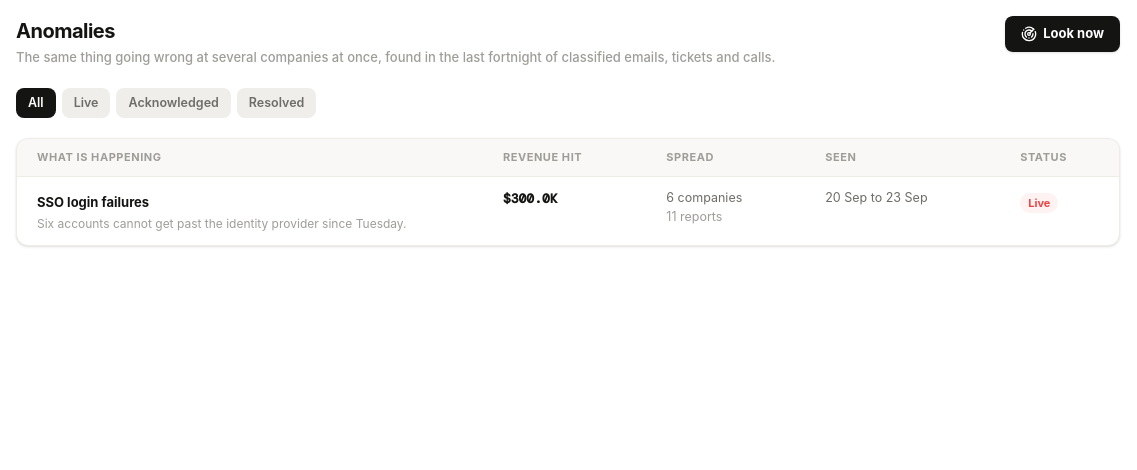
Scenario: AnomaliesPage › opens one and shows the companies hit and the reports
The image size is (1137, 470).
Click the button with aria-label "Open SSO login failures". click: x=93, y=203
box: 37,193 -> 149,212
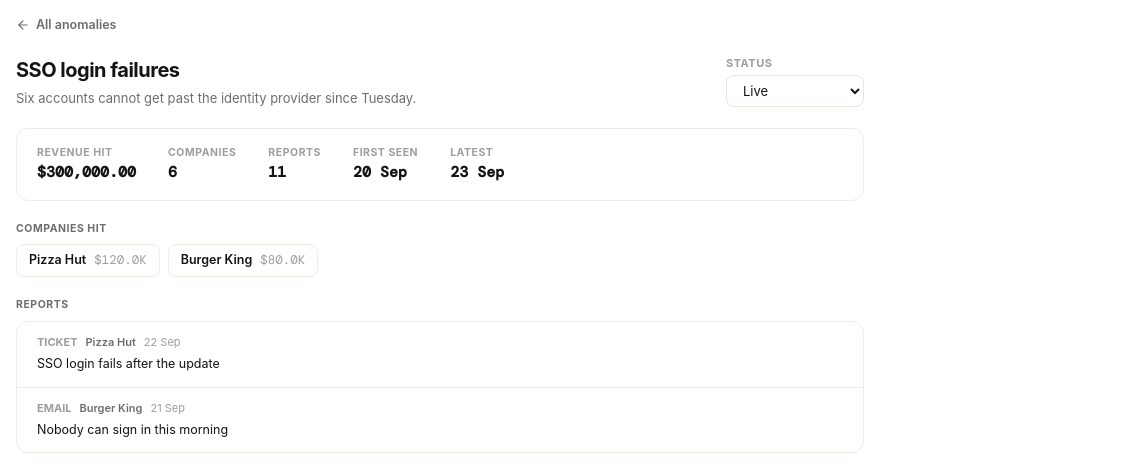
expect the text "cannot get past the identity provider" is shown: met, box 16,90 -> 416,106
expect the text "SSO login fails after the update" is shown: met, box 37,356 -> 220,371
